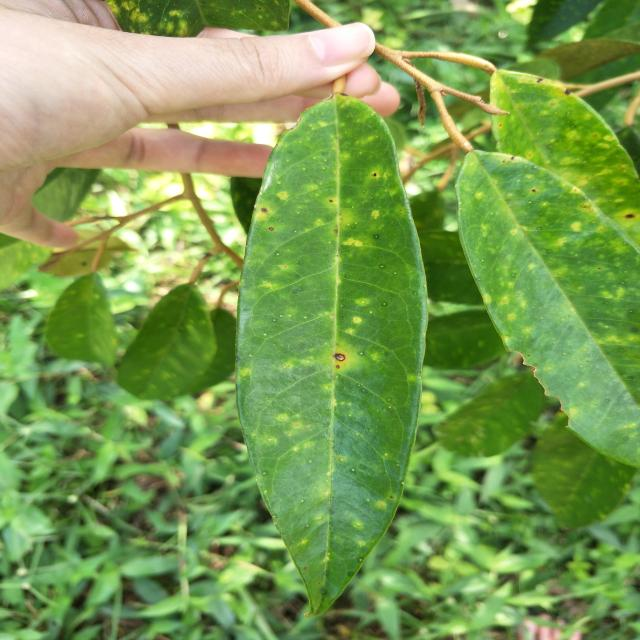Leaf Spot: (239, 182, 300, 242), (310, 342, 367, 384), (318, 182, 359, 232), (351, 152, 389, 178), (610, 201, 640, 228)
